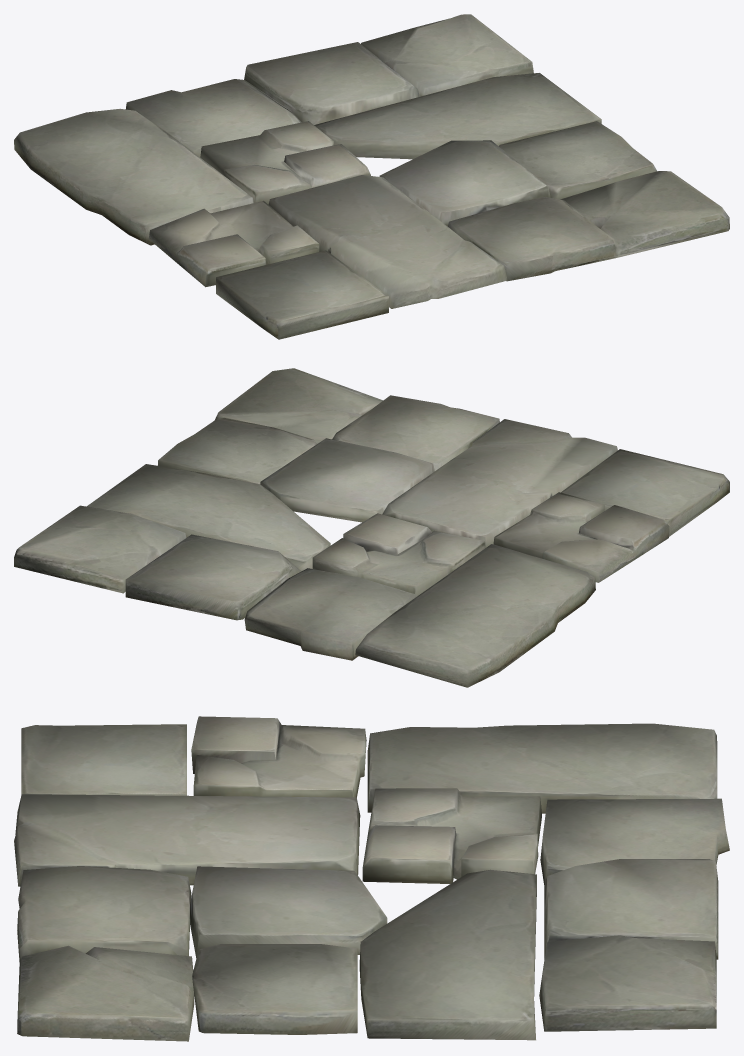
File: debris_pile.glb
3 views of the same model, one above another, from view 1: azimuth 30°, elevation 25°; view 2: azimuth 150°, elevation 25°; view 3: azimuth 270°, elevation 25° (orthographic). The views are drawn at different scales.
Visible parts, largest first — view 1: debris_pile; view 2: debris_pile; view 3: debris_pile.
Boxes of the visible parts, x1,y1,x2,y2 form: debris_pile: (14,14,729,339); debris_pile: (14,368,729,687); debris_pile: (14,716,729,1041).
Size of the model in its own units: 0.9878 by 0.061 by 0.9976.
Materials: 1 (1 with a texture image).
